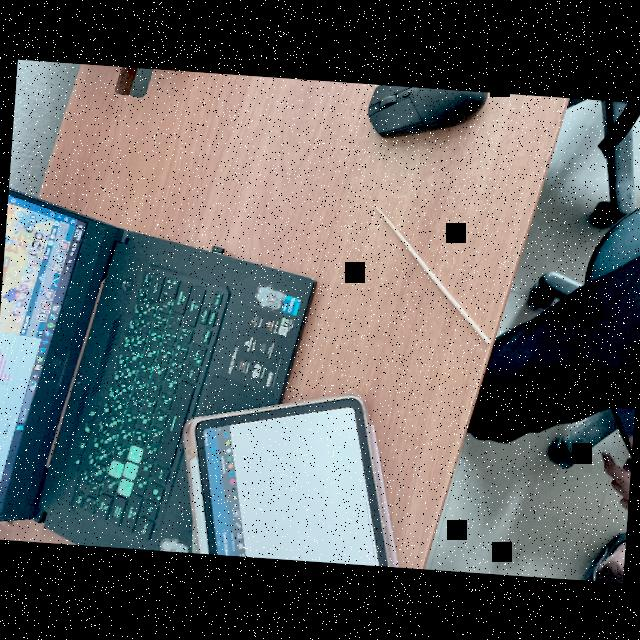stick: (352, 188, 518, 360)
